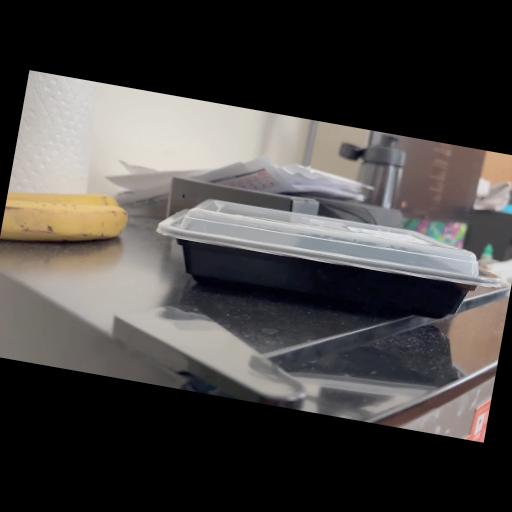rigid_plastic_container: (155, 188, 494, 320)
